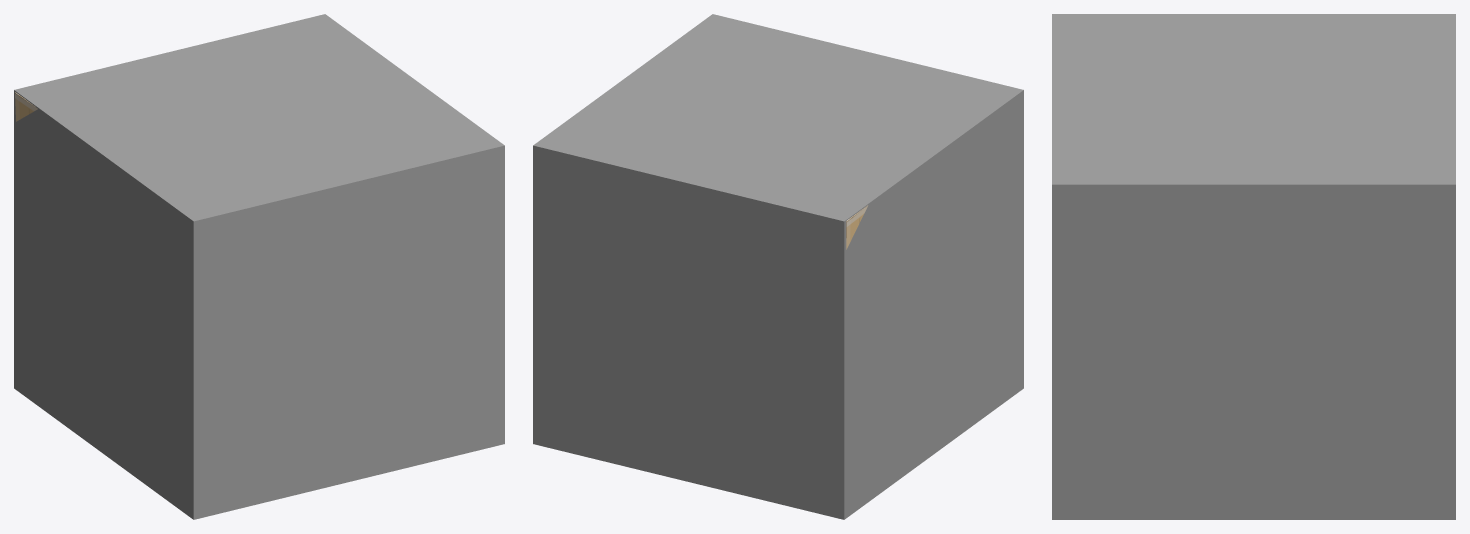
File: wood_crate.fbx
3 views of the same model, side by side, from view 1: azimuth 30°, elevation 25°; view 2: azimuth 150°, elevation 25°; view 3: azimuth 270°, elevation 25° (orthographic). The views are drawn at different scales.
Parts seen in each view (by area): view 1: wall, floor; view 2: wall, floor; view 3: wall, floor.
Boxes of the visible parts, <box> form: wall: <box>14,90,504,519</box>; floor: <box>14,14,504,221</box>; wall: <box>533,90,1023,519</box>; floor: <box>533,14,1023,221</box>; wall: <box>1052,184,1455,519</box>; floor: <box>1052,14,1455,184</box>.
Size of the model in its own units: 6.02 by 5.5 by 6.
5 materials, 4 textured.
